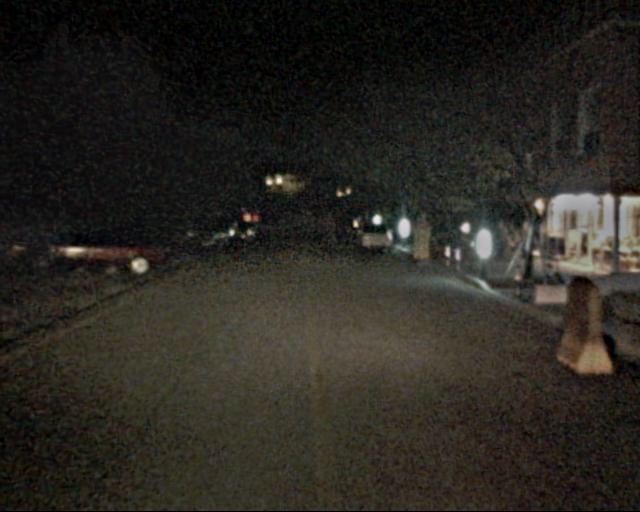person: (515, 220, 537, 273), (493, 219, 514, 269)
